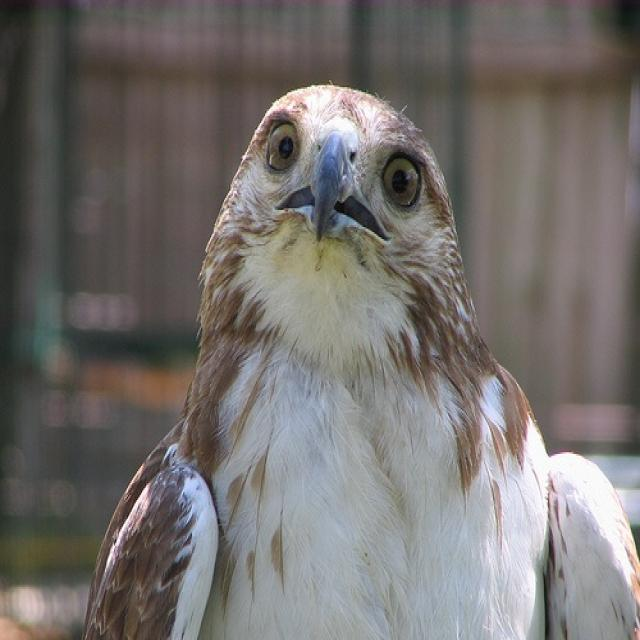bird: (82, 84, 639, 638)
